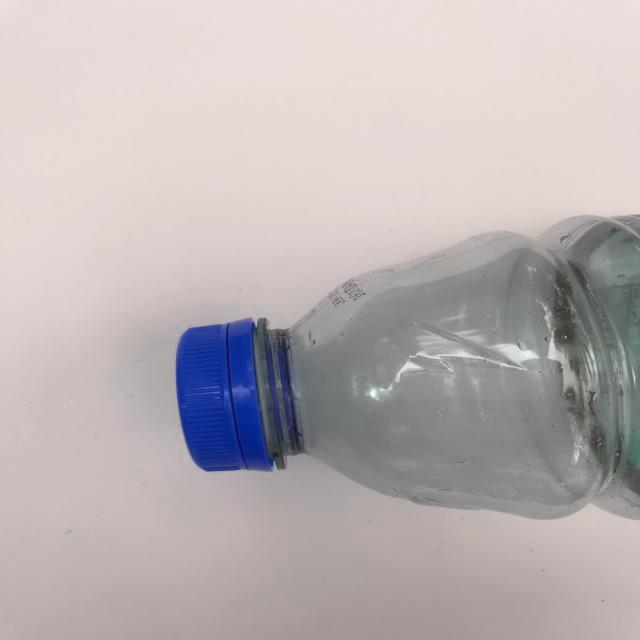plastic: (156, 177, 640, 584)
